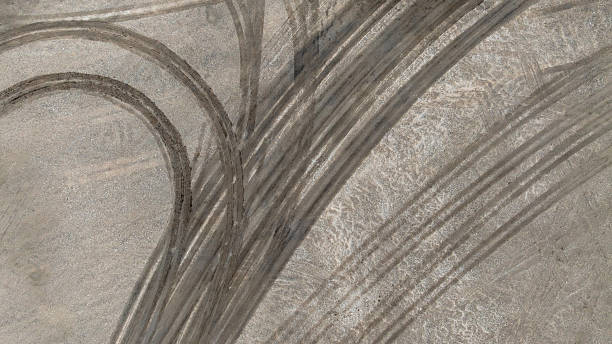human_footprint: (243, 8, 529, 329), (0, 16, 247, 334), (235, 0, 456, 242), (2, 73, 197, 337), (230, 2, 256, 153)
